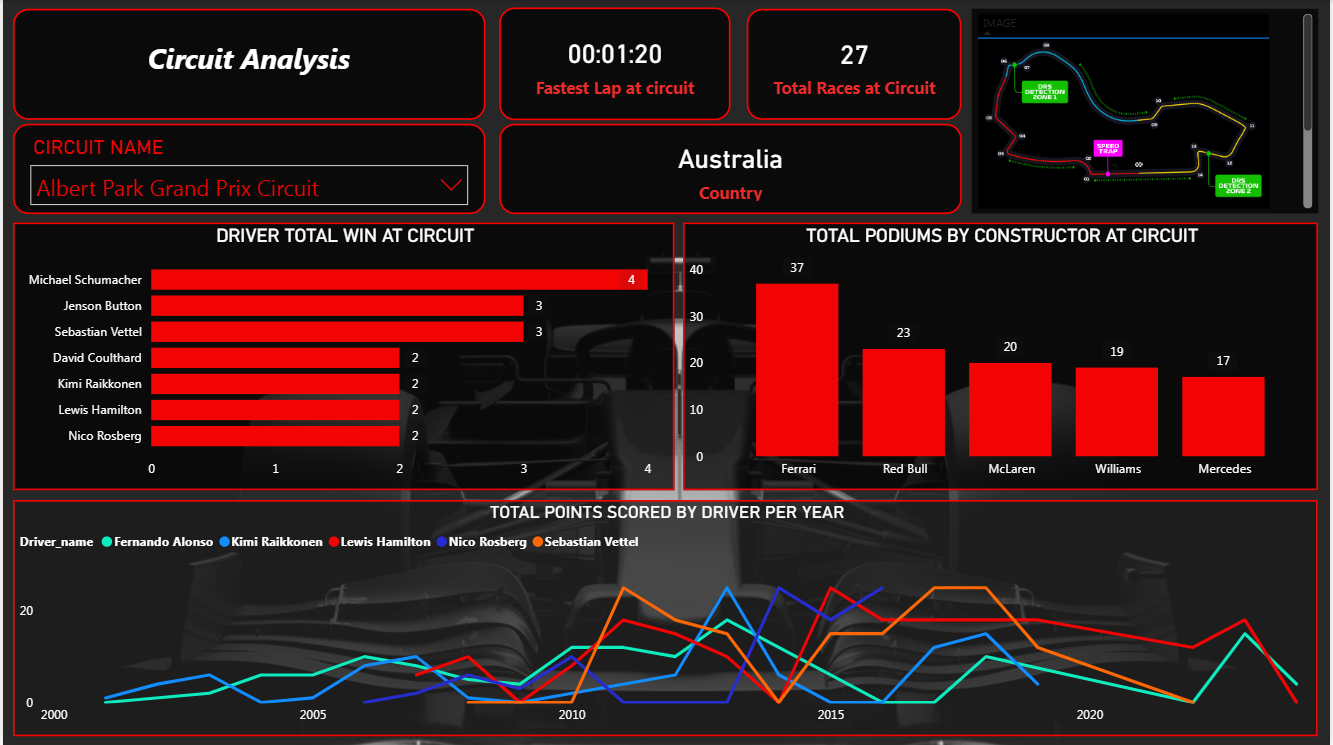

The dashboard page shown, as its layout file describes it:
{"tool":"powerbi","page":{"name":"Circuits","canvas":[1280,720],"ordinal":3},"visuals":[{"type":"tableEx","fields":{"Values":["circuits.URLs"]},"box":[935,8.4,334.2,197.9],"z":0},{"type":"slicer","fields":{"Values":["circuits.name"]},"box":[9.7,119.4,456,86.9],"z":1000},{"type":"card","fields":{"Values":["Constructor_standings.Total Races at Circuit"]},"box":[717.8,8.4,207.5,107.4],"z":2000},{"type":"card","fields":{"Values":["Constructor_standings.Fastest Lap by Driver"]},"box":[479,7.2,223.2,108.6],"z":3000},{"type":"barChart","title":"DRIVER TOTAL WIN AT CIRCUIT","fields":{"Category":["Drivers.Driver_name"],"Y":["Constructor_standings.Win"]},"box":[9.7,214.7,638.2,258.2],"z":4000},{"type":"columnChart","title":"TOTAL PODIUMS BY CONSTRUCTOR AT CIRCUIT","fields":{"Category":["constructor.name"],"Y":["Sum(Constructor_standings.position)"]},"box":[656.3,214.7,612.9,258.2],"z":5000},{"type":"lineChart","title":"TOTAL POINTS SCORED BY DRIVER PER YEAR","fields":{"Category":["Races.year"],"Series":["Drivers.Driver_name"],"Y":["Sum(Results.points)"]},"box":[9.7,482.6,1259.5,228],"z":6000},{"type":"card","fields":{"Values":["Min(circuits.country)"]},"box":[479,119.4,446.4,86.9],"z":7000},{"type":"textbox","box":[9.7,8.4,456,107.4],"z":7001}]}

Visuals, with their boxes in screenshot pixels (x1, y1, x2, y2), scaled from the page's 1280x720 canvas onto the 1333x745 screenshot:
tableEx - circuits.URLs: [x1=974, y1=9, x2=1322, y2=213]
slicer - circuits.name: [x1=10, y1=124, x2=485, y2=213]
card - Constructor_standings.Total Races at Circuit: [x1=748, y1=9, x2=964, y2=120]
card - Constructor_standings.Fastest Lap by Driver: [x1=499, y1=7, x2=731, y2=120]
"DRIVER TOTAL WIN AT CIRCUIT" barChart: [x1=10, y1=222, x2=675, y2=489]
"TOTAL PODIUMS BY CONSTRUCTOR AT CIRCUIT" columnChart: [x1=683, y1=222, x2=1322, y2=489]
"TOTAL POINTS SCORED BY DRIVER PER YEAR" lineChart: [x1=10, y1=499, x2=1322, y2=735]
card - Min(circuits.country): [x1=499, y1=124, x2=964, y2=213]
textbox: [x1=10, y1=9, x2=485, y2=120]
